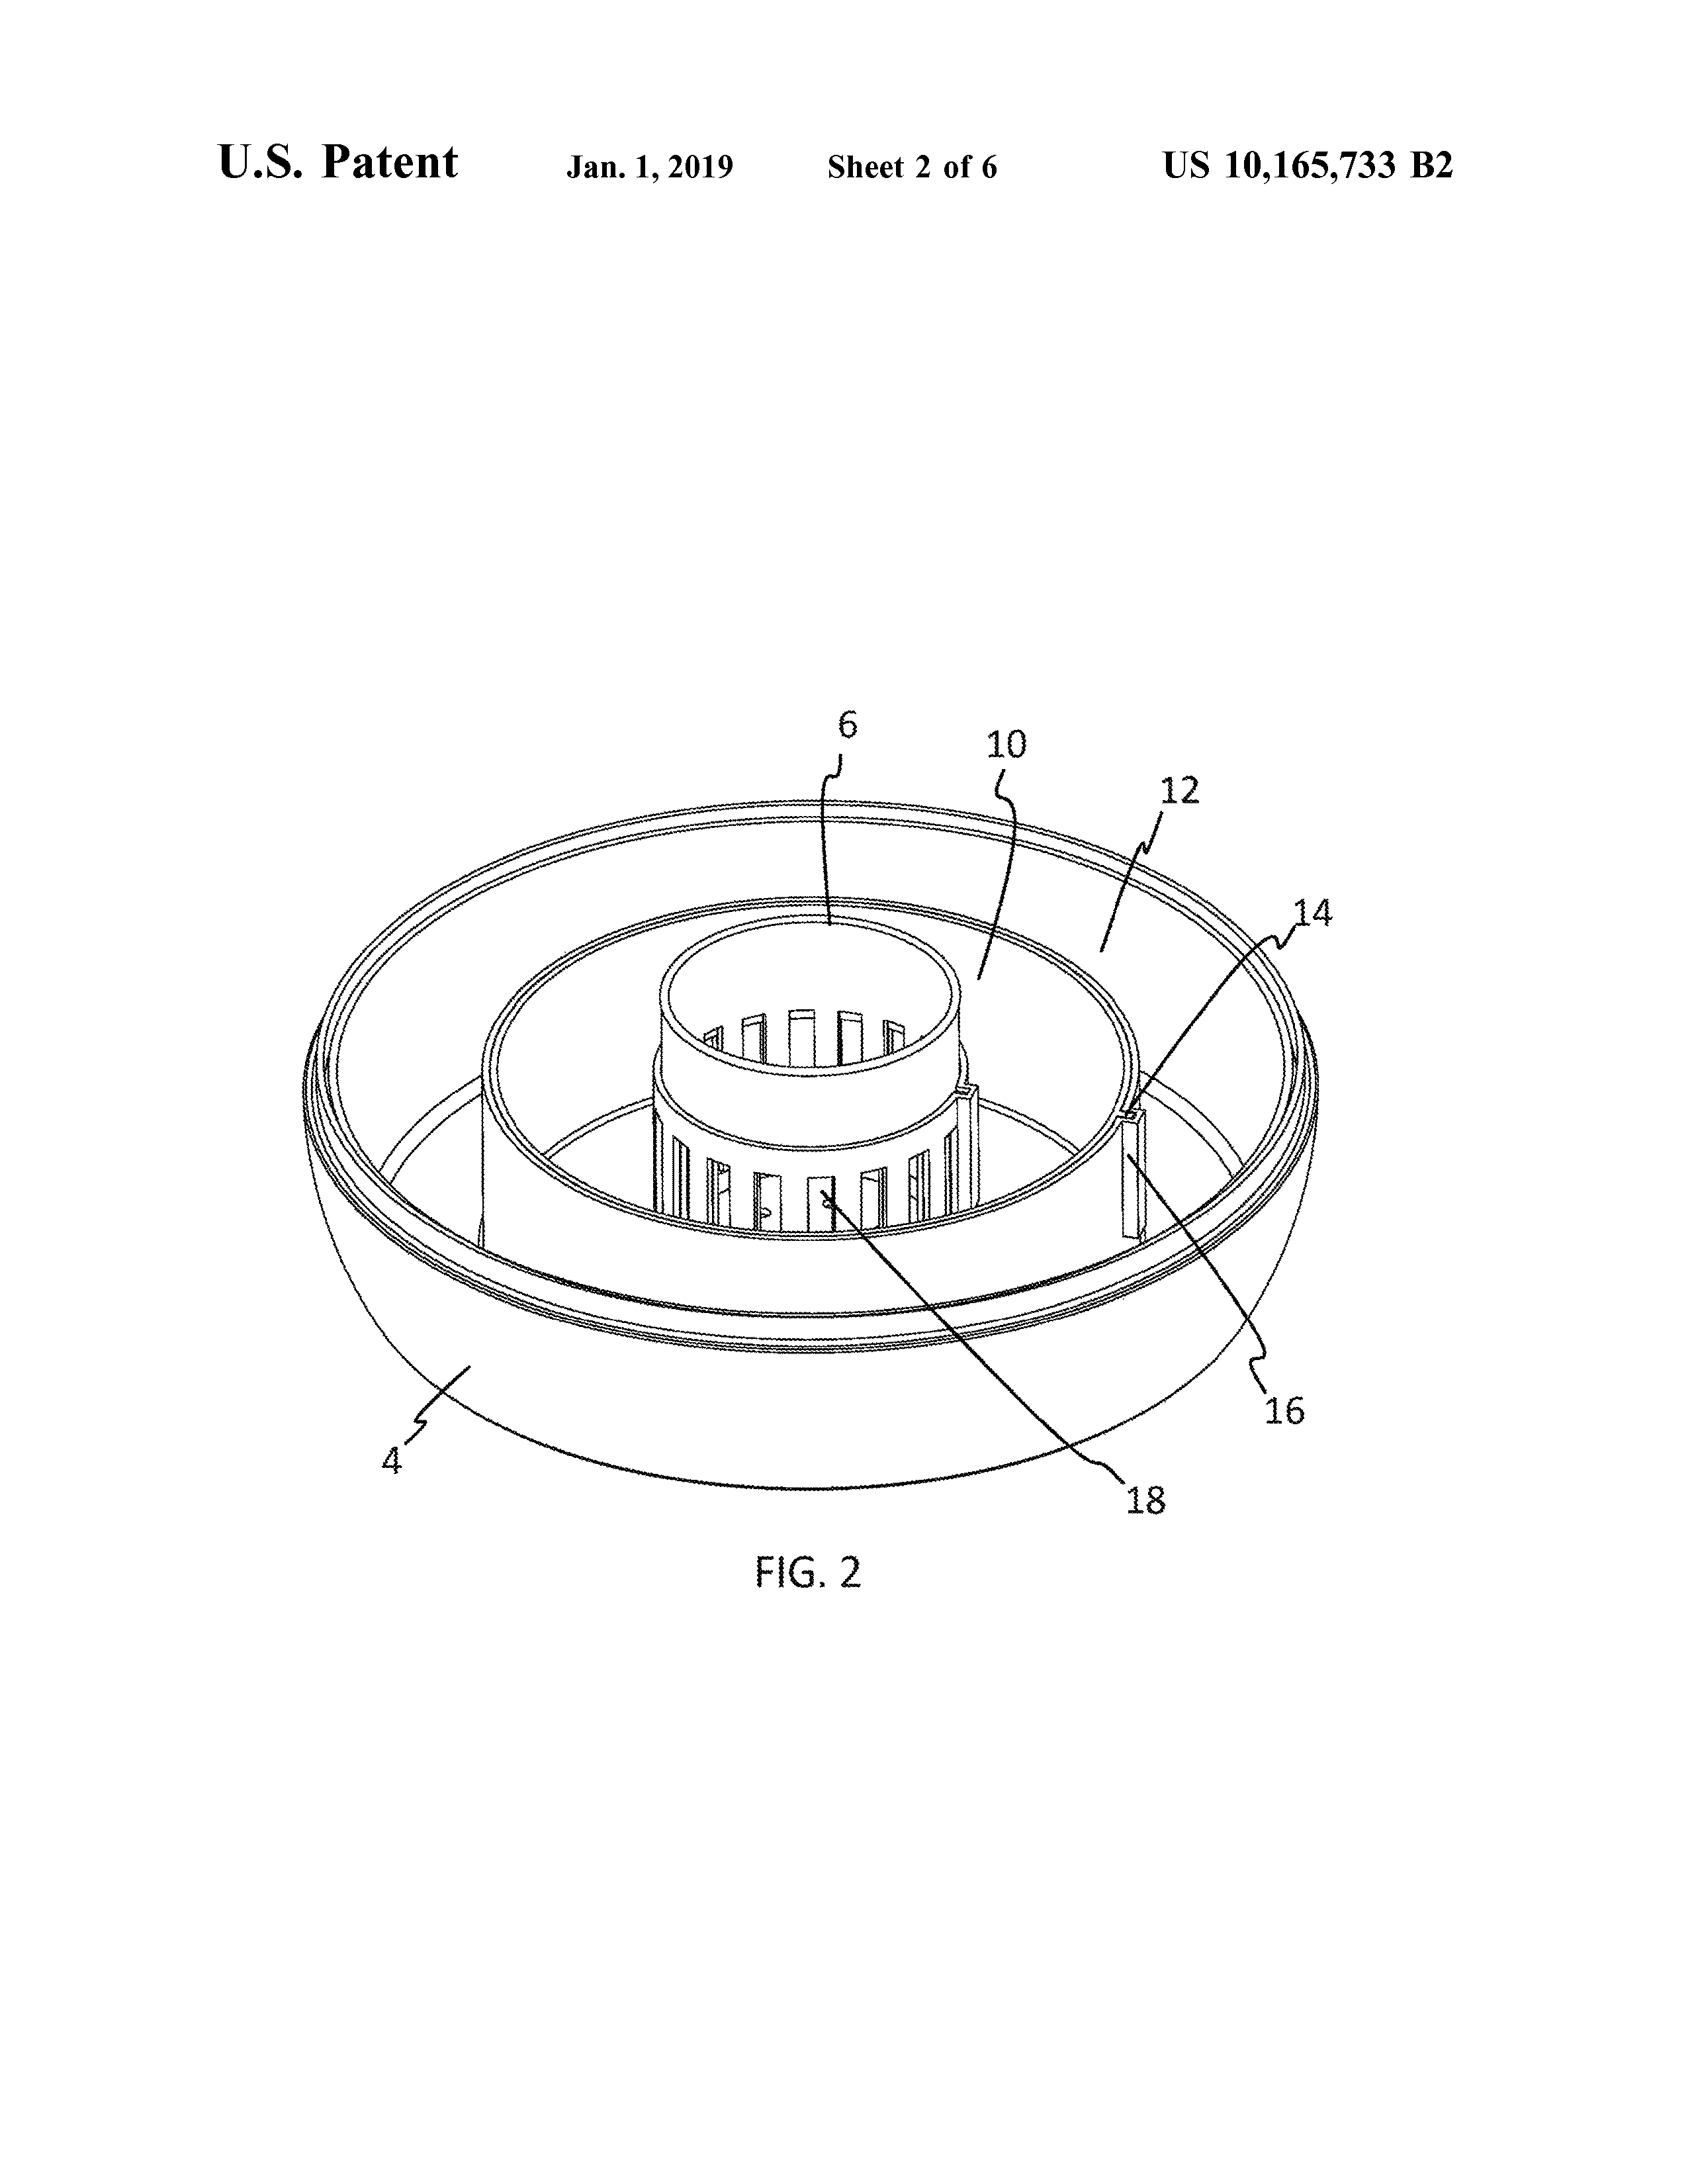patent image: (209, 584, 1438, 1692)
